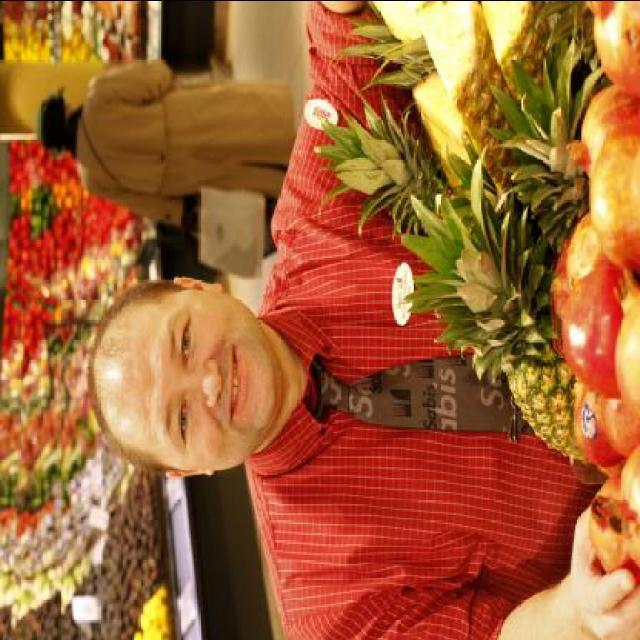Pineapple: (394, 148, 592, 462), (315, 80, 457, 242), (411, 2, 520, 190), (409, 48, 486, 192), (477, 0, 554, 117)
